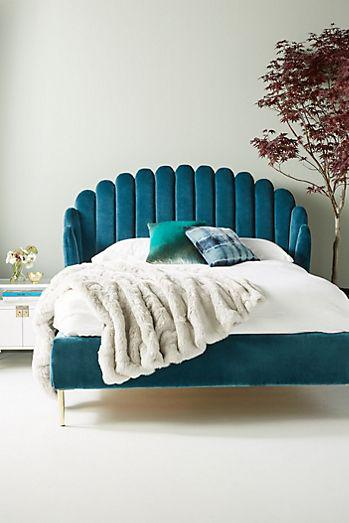bed: (39, 159, 349, 434)
